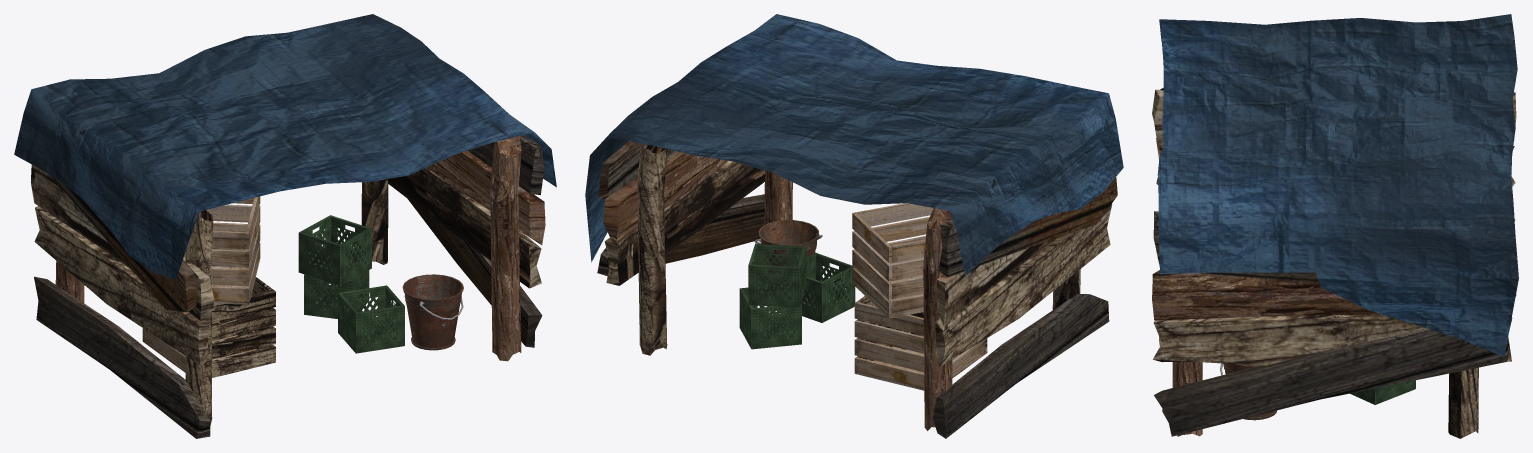
Rendered from Storage.fbx.
3 renders of one model, left to right at view 1: azimuth 30°, elevation 25°; view 2: azimuth 150°, elevation 25°; view 3: azimuth 270°, elevation 25°, orthographic. The views are drawn at different scales.
Visible parts, largest first — view 1: pPlane14, pCube133, pCube132, WoodPole_Broken4, pCube52 (×2), pCube136, pCube135, Bucket, pCube31, WoodPole_Broken7, WoodPole_Broken5, pCube134 (+2 smaller); view 2: pPlane14, pCube133, pCube132, WoodPole_Broken5, pCube31, WoodPole_Broken6, pCube136, pCube52, pCube135, pCube51 (×2), pCube134, pCube53 (+3 smaller); view 3: pPlane14, pCube132, WoodPole_Broken5, WoodPole_Broken4, pCube134, pCube133, Bucket.
Part boxes in pixels (x1=…): pPlane14: x1=14, y1=14, x2=556, y2=279; pCube133: x1=30, y1=164, x2=214, y2=438; pCube132: x1=388, y1=135, x2=545, y2=347; WoodPole_Broken4: x1=490, y1=136, x2=521, y2=361; pCube52 (×2): x1=206, y1=196, x2=275, y2=377; pCube136: x1=298, y1=215, x2=371, y2=285; pCube135: x1=338, y1=285, x2=404, y2=353; Bucket: x1=402, y1=274, x2=463, y2=350; pCube31: x1=184, y1=230, x2=249, y2=304; WoodPole_Broken7: x1=185, y1=210, x2=213, y2=425; WoodPole_Broken5: x1=361, y1=179, x2=388, y2=264; pCube134: x1=304, y1=270, x2=369, y2=318; pPlane14: x1=585, y1=14, x2=1123, y2=276; pCube133: x1=932, y1=177, x2=1117, y2=438; pCube132: x1=597, y1=141, x2=764, y2=285; WoodPole_Broken5: x1=637, y1=143, x2=668, y2=355; pCube31: x1=854, y1=302, x2=924, y2=390; WoodPole_Broken6: x1=923, y1=208, x2=952, y2=430; pCube136: x1=748, y1=243, x2=806, y2=307; pCube52: x1=852, y1=212, x2=891, y2=318; pCube135: x1=788, y1=252, x2=855, y2=322; pCube51 (×2): x1=855, y1=203, x2=985, y2=377; pCube134: x1=739, y1=287, x2=801, y2=349; pCube53: x1=891, y1=239, x2=925, y2=317; pPlane14: x1=1157, y1=14, x2=1518, y2=356; pCube132: x1=1152, y1=211, x2=1516, y2=436; WoodPole_Broken5: x1=1448, y1=367, x2=1478, y2=438; WoodPole_Broken4: x1=1172, y1=361, x2=1202, y2=436; pCube134: x1=1350, y1=380, x2=1415, y2=404; pCube133: x1=1152, y1=88, x2=1516, y2=266; Bucket: x1=1223, y1=363, x2=1276, y2=420.
Bounding box in the file's own units: 3.2 × 1.86 × 2.46.
7 materials, 7 textured.
